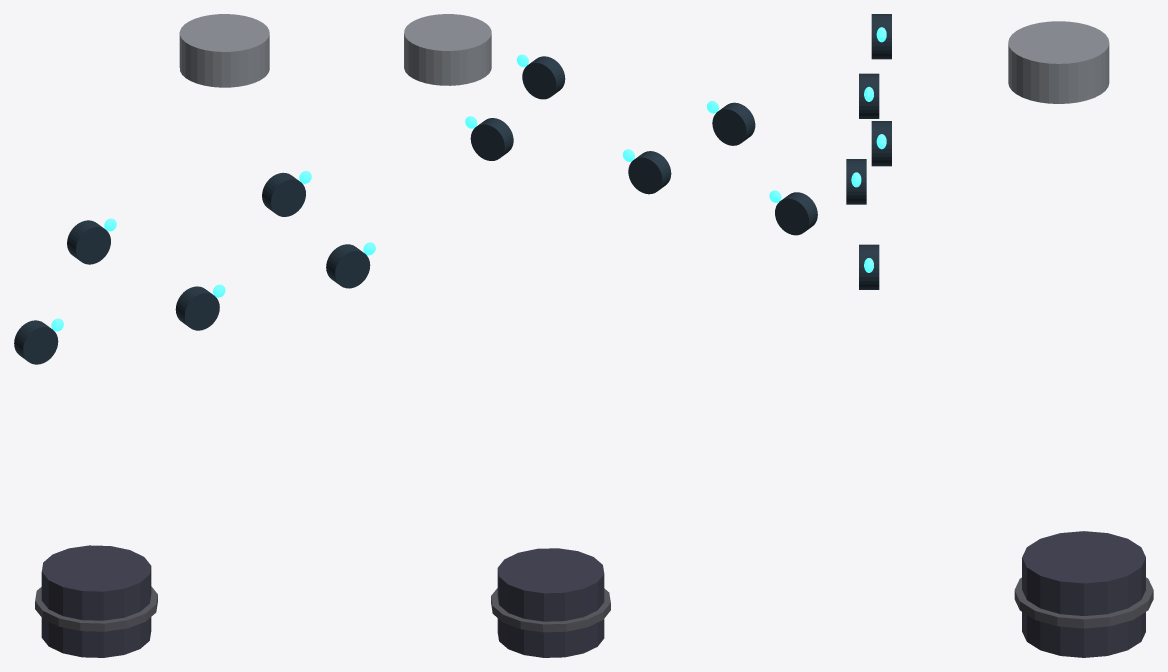
File: 10_Sensors_and_LiDAR_Unit.glb
3 renders of one model, left to right at view 1: azimuth 30°, elevation 25°; view 2: azimuth 150°, elevation 25°; view 3: azimuth 270°, elevation 25°, orthographic. The views are drawn at different scales.
Visible parts, largest first — view 1: COMP_LIDAR_ENVELOPE, LIDAR_Base_Forward, BRACKET_LIDAR_MOUNT, CAM_Base_1, CAM_Base_2, CAM_Base_3, CAM_Base_4, CAM_Base_5; view 2: COMP_LIDAR_ENVELOPE, LIDAR_Base_Forward, BRACKET_LIDAR_MOUNT, CAM_Base_4, CAM_Base_5, CAM_Base_1, CAM_Base_2, CAM_Base_3; view 3: COMP_LIDAR_ENVELOPE, LIDAR_Base_Forward, BRACKET_LIDAR_MOUNT, CAM_Base_4, CAM_Base_2, CAM_Base_5, CAM_Base_1, CAM_Base_3.
Boxes of the visible parts, <box> form: COMP_LIDAR_ENVELOPE: <box>41,545,151,657</box>; LIDAR_Base_Forward: <box>179,14,269,87</box>; BRACKET_LIDAR_MOUNT: <box>35,586,157,631</box>; CAM_Base_1: <box>14,320,58,364</box>; CAM_Base_2: <box>175,286,219,330</box>; CAM_Base_3: <box>326,244,370,288</box>; CAM_Base_4: <box>67,220,110,264</box>; CAM_Base_5: <box>262,172,305,216</box>; COMP_LIDAR_ENVELOPE: <box>497,548,604,657</box>; LIDAR_Base_Forward: <box>404,14,491,85</box>; BRACKET_LIDAR_MOUNT: <box>491,588,610,632</box>; CAM_Base_4: <box>712,102,755,145</box>; CAM_Base_5: <box>522,56,565,99</box>; CAM_Base_1: <box>775,192,817,235</box>; CAM_Base_2: <box>628,151,671,194</box>; CAM_Base_3: <box>470,118,513,160</box>; COMP_LIDAR_ENVELOPE: <box>1022,531,1145,657</box>; LIDAR_Base_Forward: <box>1008,21,1109,103</box>; BRACKET_LIDAR_MOUNT: <box>1014,577,1153,628</box>; CAM_Base_4: <box>871,14,891,59</box>; CAM_Base_2: <box>846,159,866,204</box>; CAM_Base_5: <box>871,121,891,166</box>; CAM_Base_1: <box>859,73,879,118</box>; CAM_Base_3: <box>859,244,879,289</box>.
Bounding box in the file's own units: 0.366 × 0.57 × 0.243.
